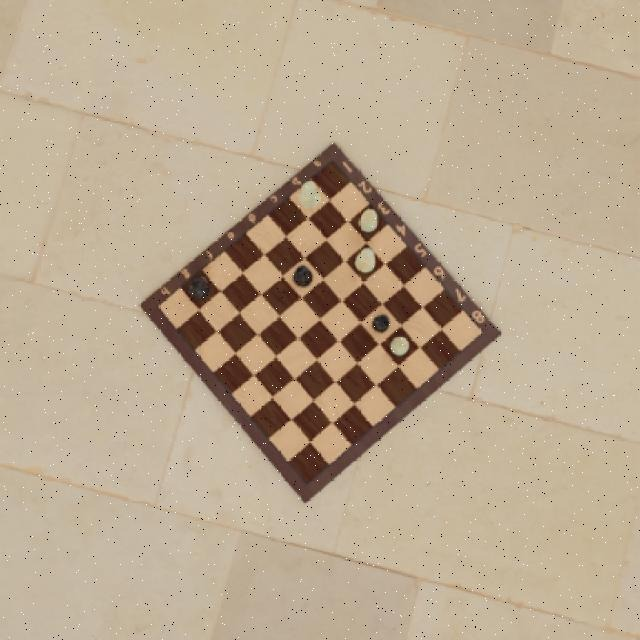black-bishop: (292, 263, 314, 289)
black-knight: (187, 275, 211, 301)
black-pawn: (371, 313, 391, 335)
white-bishop: (388, 335, 410, 358)
white-king: (300, 179, 320, 209)
white-queen: (353, 246, 378, 276)
white-rook: (358, 209, 378, 235)
